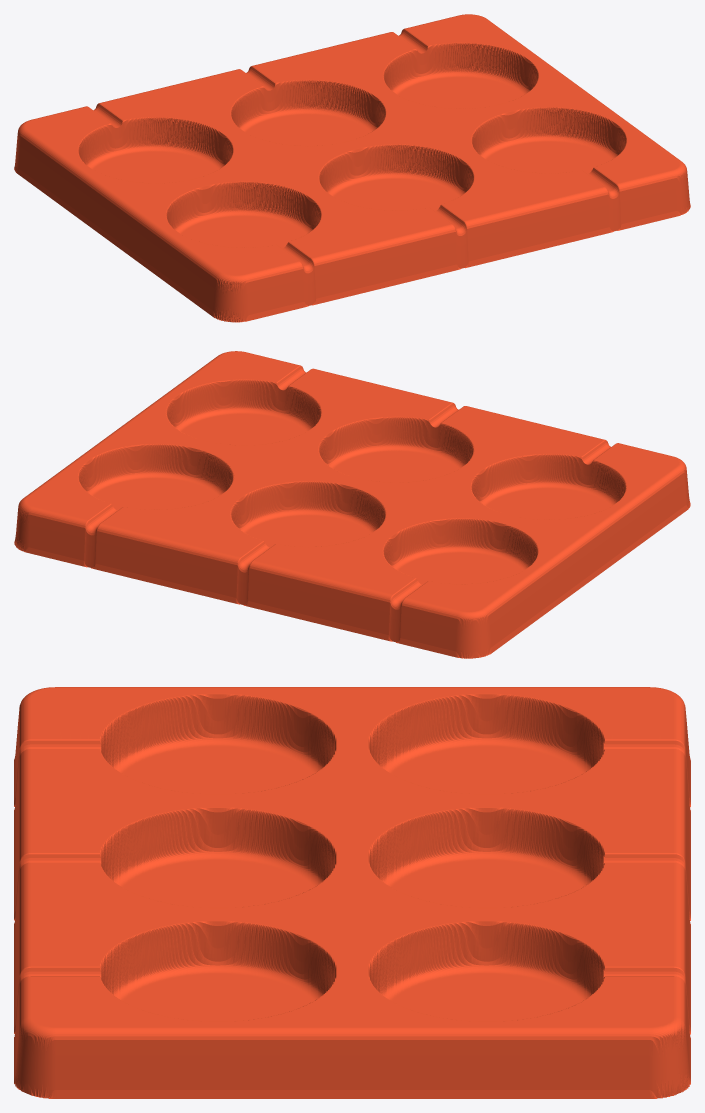
Rendered from mold.glb.
3 views of the same model, one above another, from view 1: azimuth 30°, elevation 25°; view 2: azimuth 150°, elevation 25°; view 3: azimuth 270°, elevation 25° (orthographic). The views are drawn at different scales.
Parts seen in each view (by area): view 1: geometry_0; view 2: geometry_0; view 3: geometry_0.
Part boxes in pixels (bbox=[...]): geometry_0: bbox=[14, 14, 690, 322]; geometry_0: bbox=[14, 351, 690, 658]; geometry_0: bbox=[14, 687, 690, 1098].
Size of the model in its own units: 0.1824 by 0.0155 by 0.1477.
